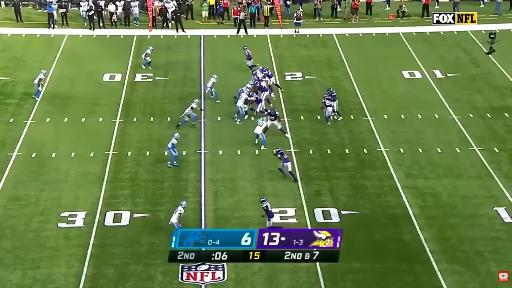Helmet: (270, 107, 276, 113), (180, 201, 186, 207), (260, 198, 267, 203), (275, 148, 282, 153), (194, 99, 200, 104), (327, 88, 333, 93), (174, 133, 179, 138), (251, 93, 256, 98), (242, 46, 247, 50), (261, 118, 266, 122), (260, 68, 266, 71), (42, 70, 46, 74), (213, 75, 217, 79), (149, 47, 153, 51), (245, 91, 249, 95), (248, 82, 252, 86), (253, 71, 257, 74), (254, 82, 258, 84)
Jersey: (171, 207, 184, 223), (262, 202, 274, 219), (276, 149, 290, 163), (254, 119, 266, 134), (267, 110, 279, 122), (237, 93, 248, 106), (184, 103, 197, 114), (322, 95, 333, 107), (34, 73, 44, 86), (257, 82, 268, 93), (168, 138, 177, 150), (264, 67, 273, 79), (143, 49, 151, 61), (207, 78, 216, 88), (131, 2, 139, 13), (244, 49, 252, 60), (329, 91, 337, 101), (80, 2, 88, 11), (255, 95, 262, 104), (243, 85, 251, 92)
Player: (275, 148, 297, 182), (261, 68, 283, 97), (267, 108, 289, 137), (177, 100, 199, 128), (255, 80, 272, 106), (234, 92, 248, 123), (327, 88, 341, 119), (170, 201, 186, 228), (260, 198, 274, 227), (254, 118, 267, 149), (33, 70, 46, 101), (168, 134, 179, 167), (206, 75, 219, 102), (243, 46, 257, 70), (322, 95, 333, 125), (252, 93, 266, 114), (142, 46, 154, 69), (80, 0, 89, 25), (131, 0, 139, 26)
